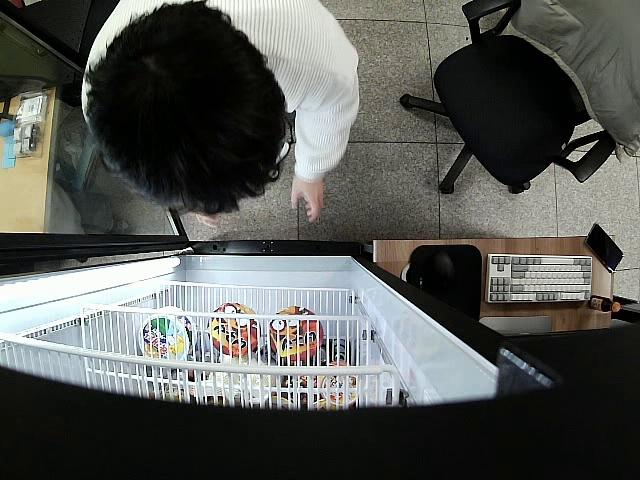00_hand: (289, 174, 323, 222)
